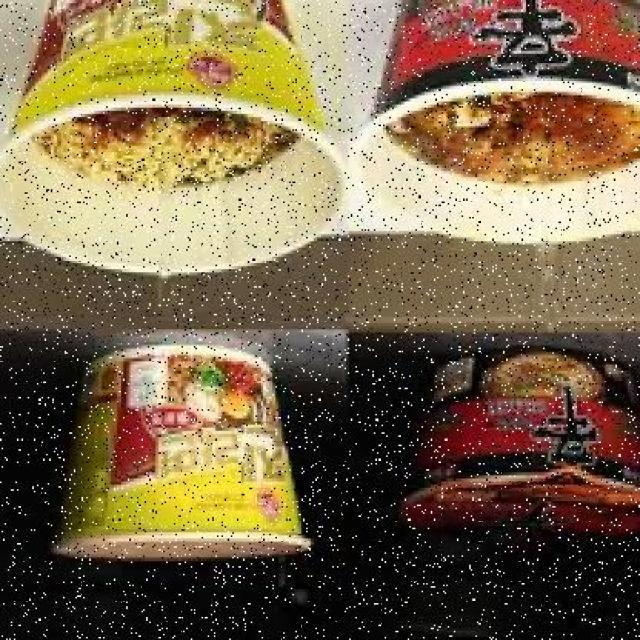Miscellaneous: (3, 0, 332, 278), (374, 0, 640, 269), (46, 344, 312, 566), (395, 348, 640, 554)
